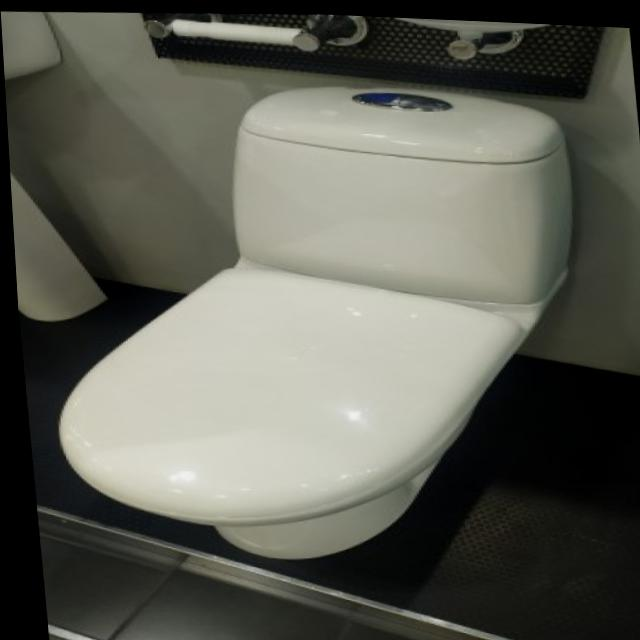toilet: (24, 61, 605, 575)
